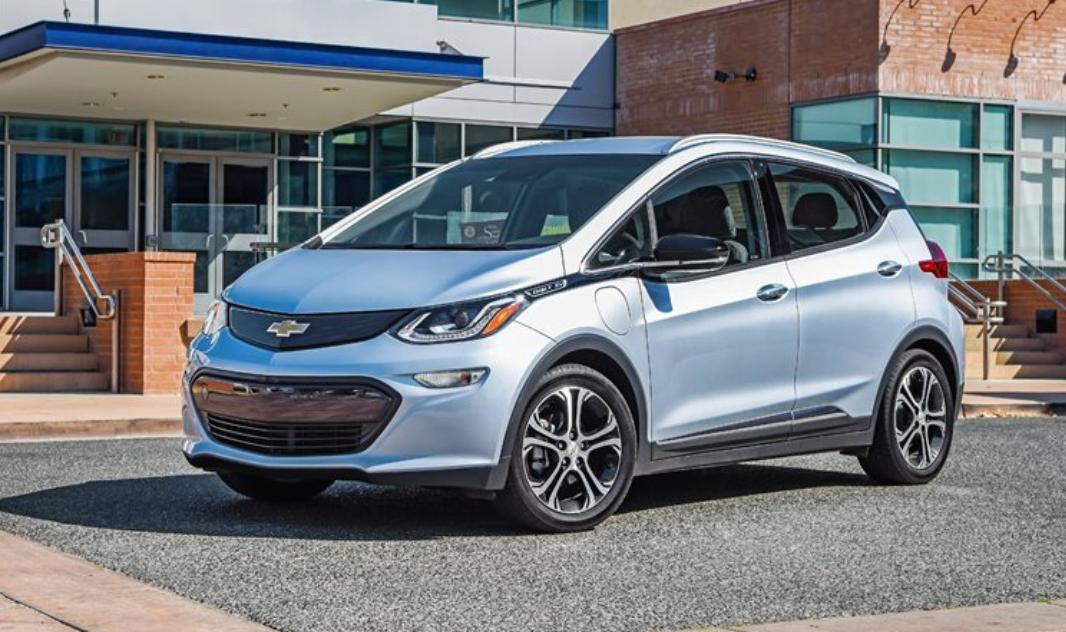car: (163, 123, 969, 532)
